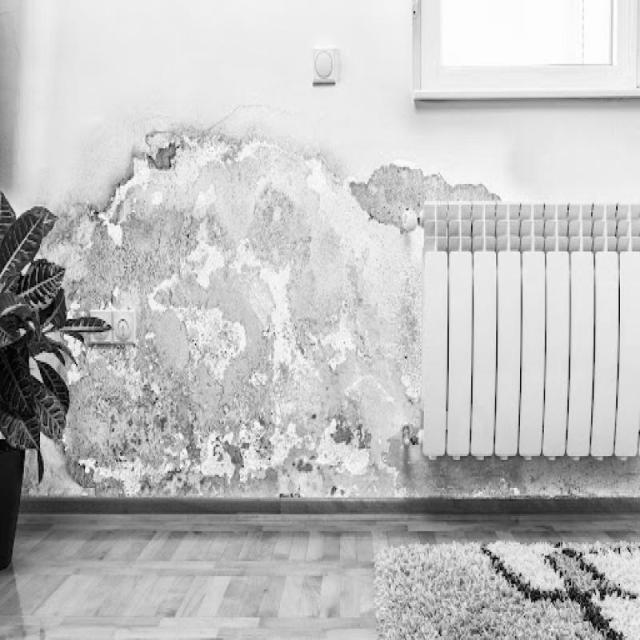stain marks: (9, 97, 588, 521)
